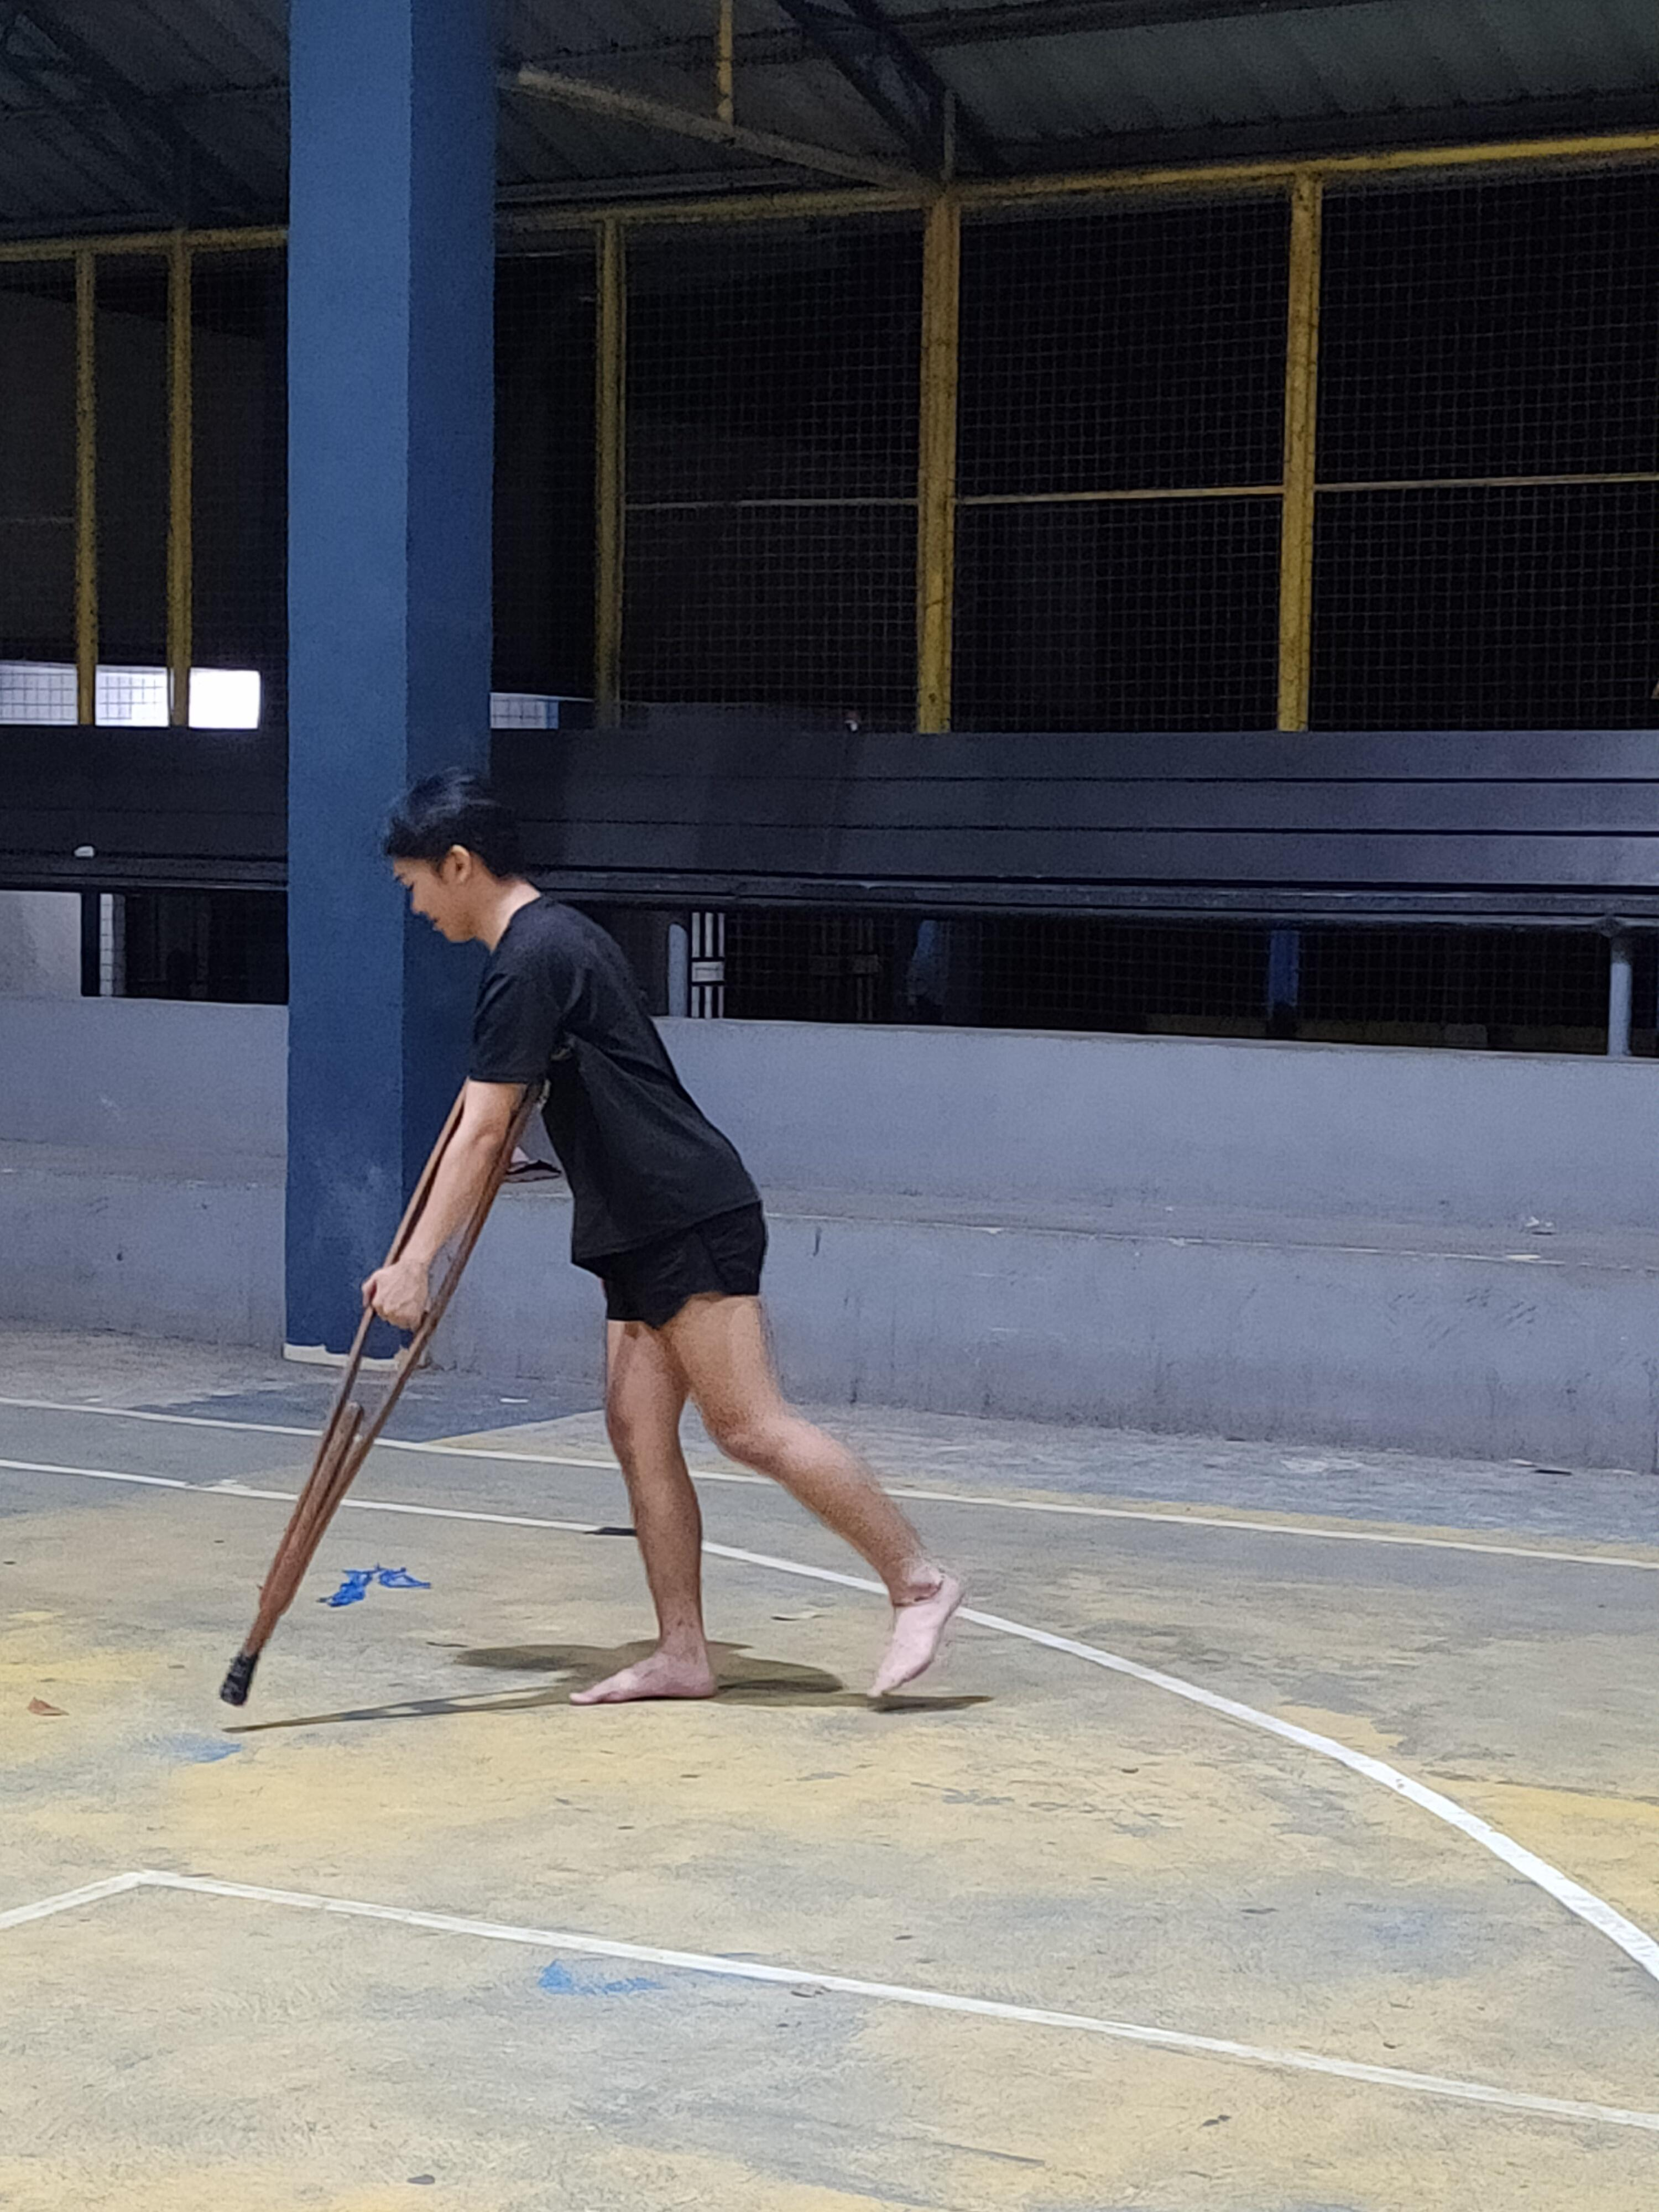crutches: (211, 759, 986, 1749)
